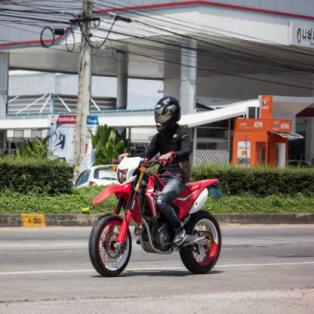Motocicleta: (80, 136, 226, 277)
